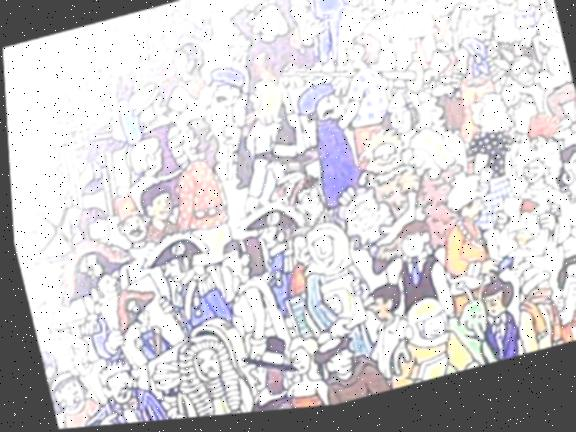waldo: (272, 176, 327, 237)
